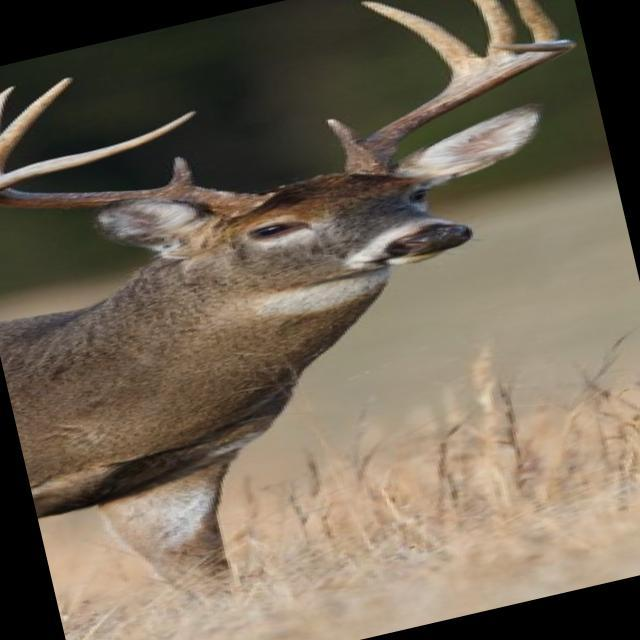L-F: (344, 39, 577, 174)
L-G1: (327, 117, 366, 153)
L-G2: (359, 0, 483, 75)
R-F: (0, 109, 279, 217)
R-G1: (163, 156, 195, 187)
R-G3: (0, 75, 74, 176)
